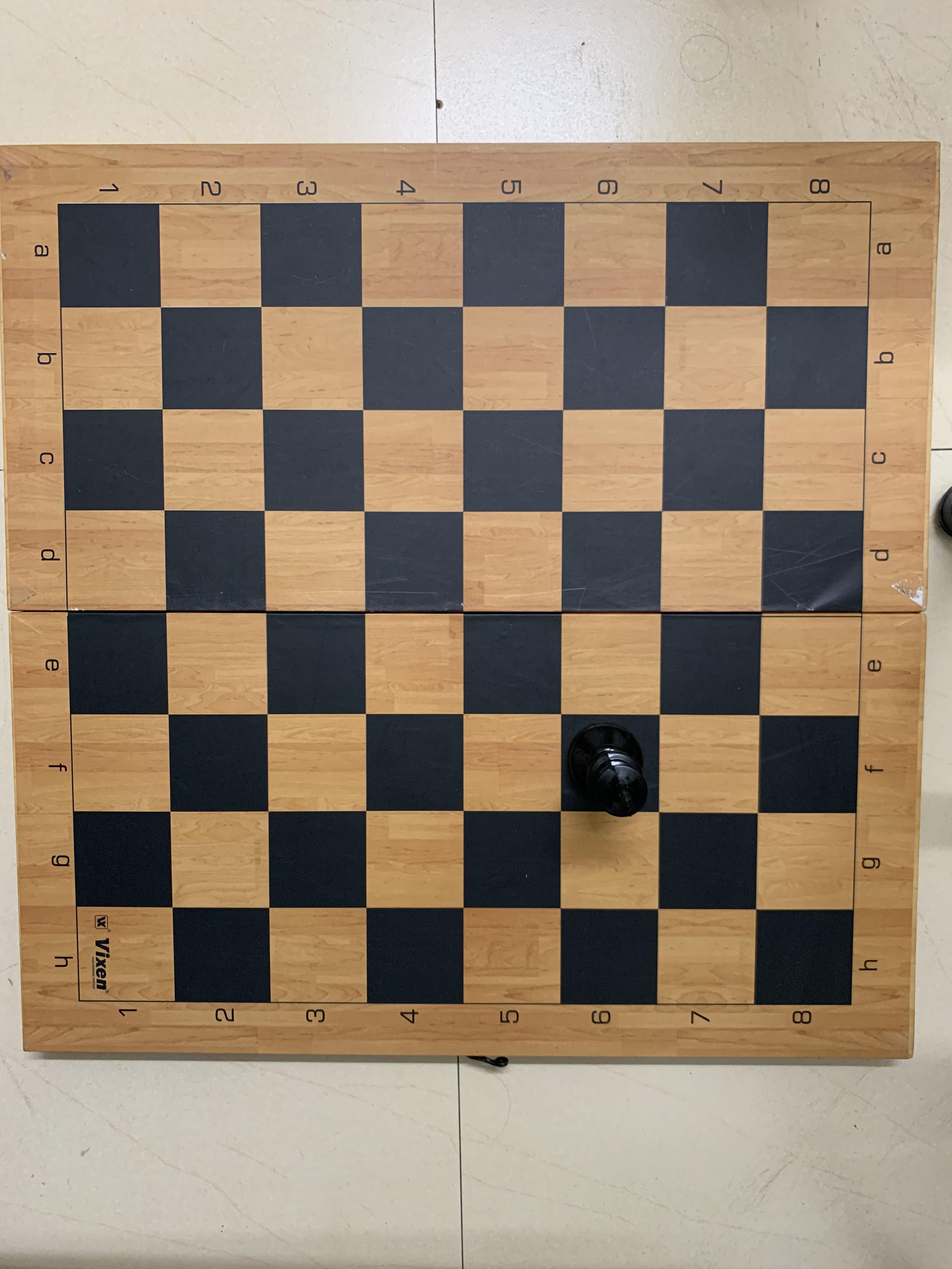black_king: (569, 715, 656, 819)
